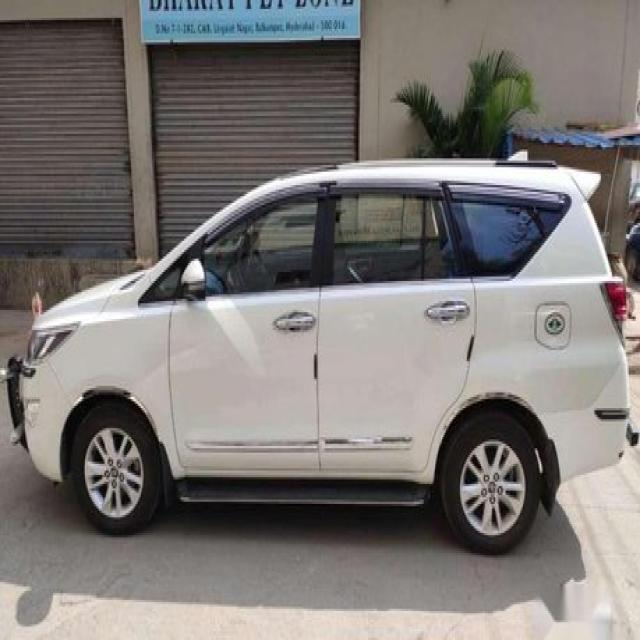light_vehicle: (2, 158, 634, 556)
